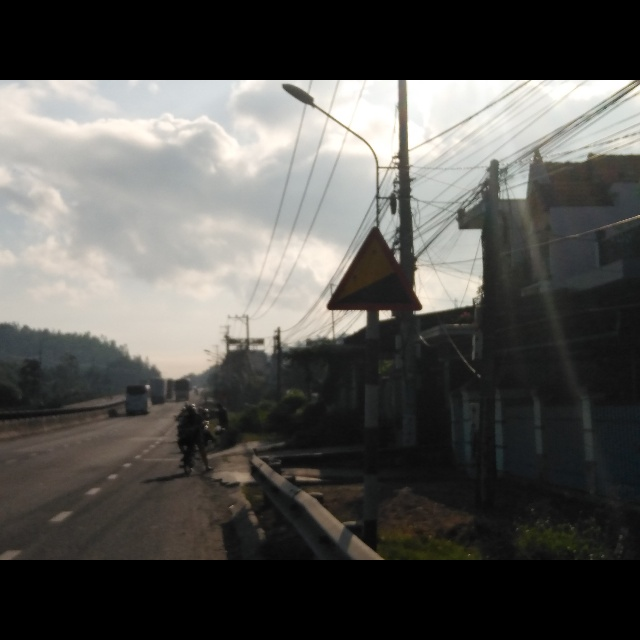Dốc lên nguy hiểm: (324, 224, 421, 313)
